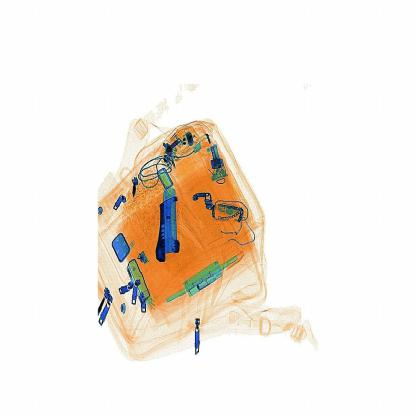pliers: (152, 179, 184, 260)
